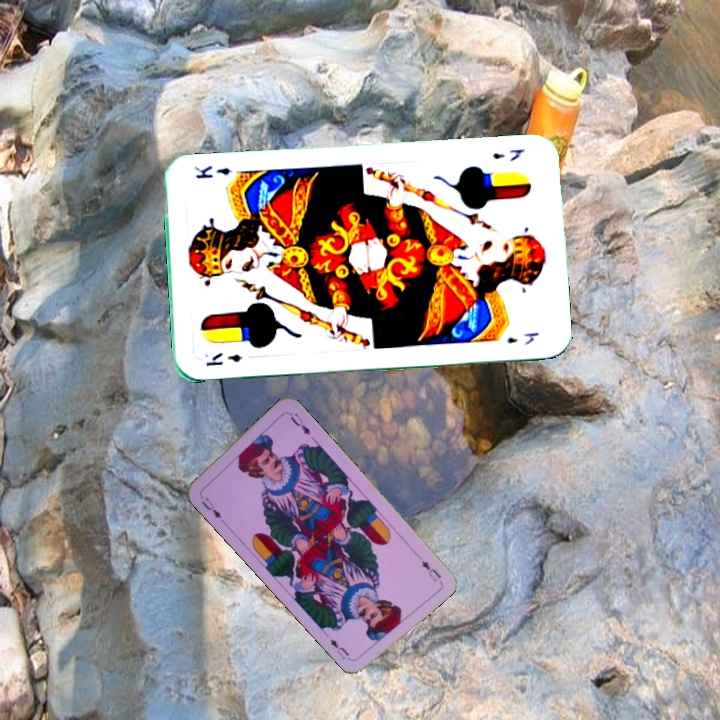EK: (201, 348, 245, 369), (489, 145, 528, 164)
EU: (198, 493, 227, 525), (417, 556, 444, 584)
